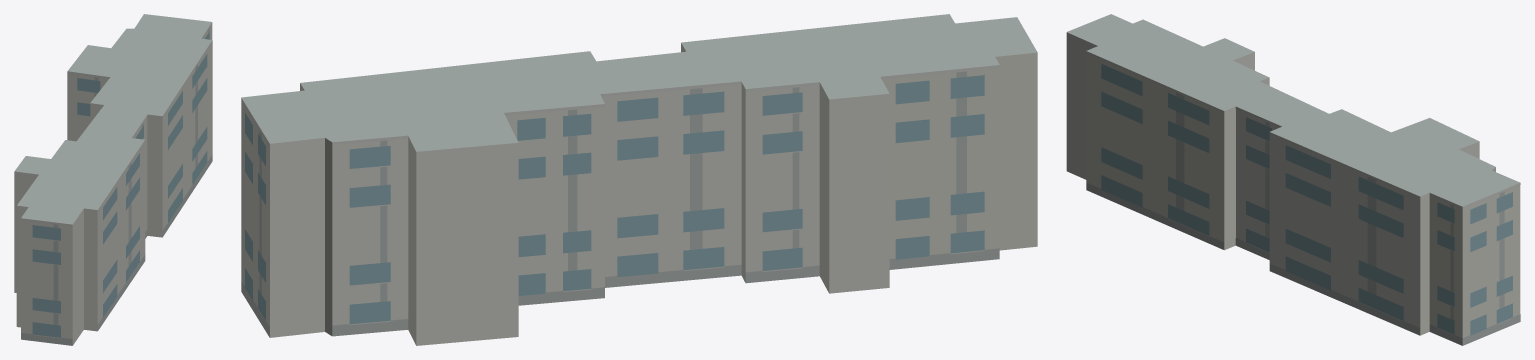
Rendered from residential-64fd5458-c1ed-48b0-9b70-be925df16b98.glb.
3 views of the same model, side by side, from view 1: azimuth 30°, elevation 25°; view 2: azimuth 150°, elevation 25°; view 3: azimuth 270°, elevation 25° (orthographic). The views are drawn at different scales.
Visible parts, largest first — view 1: residential-64fd5458-c1ed-48b0-9b70-be925df16b98.tmp; view 2: residential-64fd5458-c1ed-48b0-9b70-be925df16b98.tmp; view 3: residential-64fd5458-c1ed-48b0-9b70-be925df16b98.tmp.
Part boxes in pixels (x1,y1,x2,y2): residential-64fd5458-c1ed-48b0-9b70-be925df16b98.tmp: [14, 14, 212, 345]; residential-64fd5458-c1ed-48b0-9b70-be925df16b98.tmp: [241, 14, 1037, 345]; residential-64fd5458-c1ed-48b0-9b70-be925df16b98.tmp: [1066, 14, 1520, 345].
Size of the model in its own units: 45.33 by 15.25 by 45.1.
